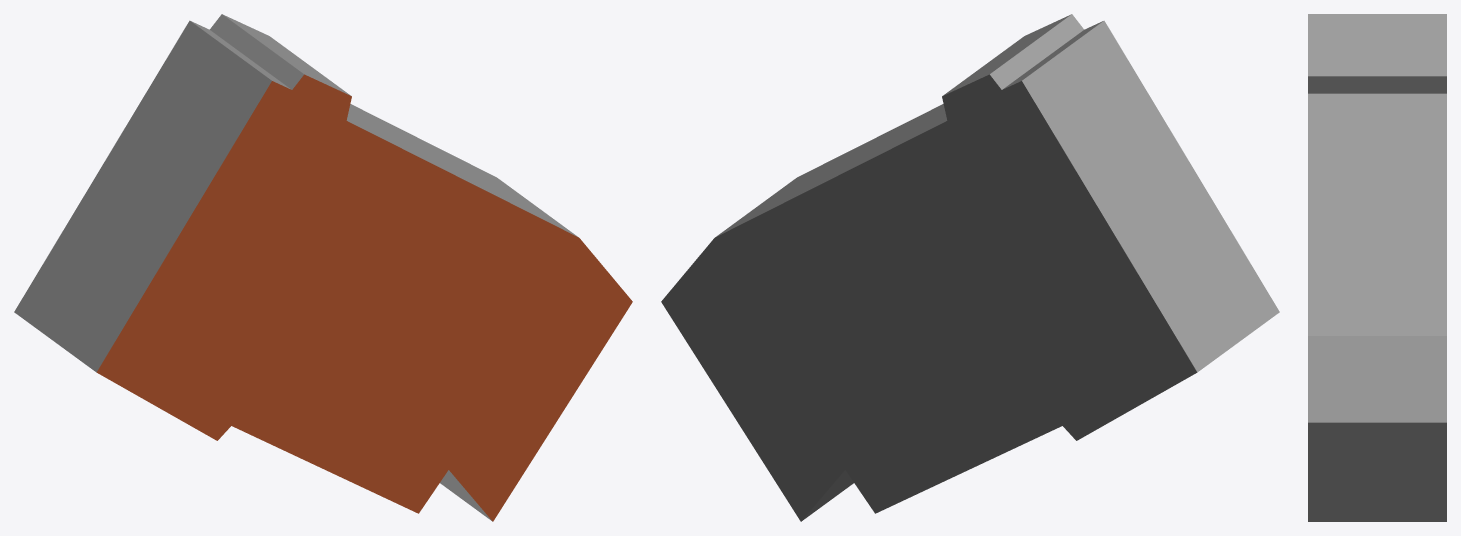
The model's file is construction_4757_assumed_A_Casa_h6m.obj.
3 views of the same model, side by side, from view 1: azimuth 30°, elevation 25°; view 2: azimuth 150°, elevation 25°; view 3: azimuth 270°, elevation 25° (orthographic). The views are drawn at different scales.
Parts seen in each view (by area): view 1: construction_4757_assumed_A_Casa; view 2: construction_4757_assumed_A_Casa; view 3: construction_4757_assumed_A_Casa.
Part boxes in pixels (left/top/right/bottom): construction_4757_assumed_A_Casa: left=14, top=14, right=632, bottom=521; construction_4757_assumed_A_Casa: left=661, top=14, right=1279, bottom=521; construction_4757_assumed_A_Casa: left=1308, top=14, right=1446, bottom=521.
Bounding box in the file's own units: 22.53 × 19.87 × 6.
